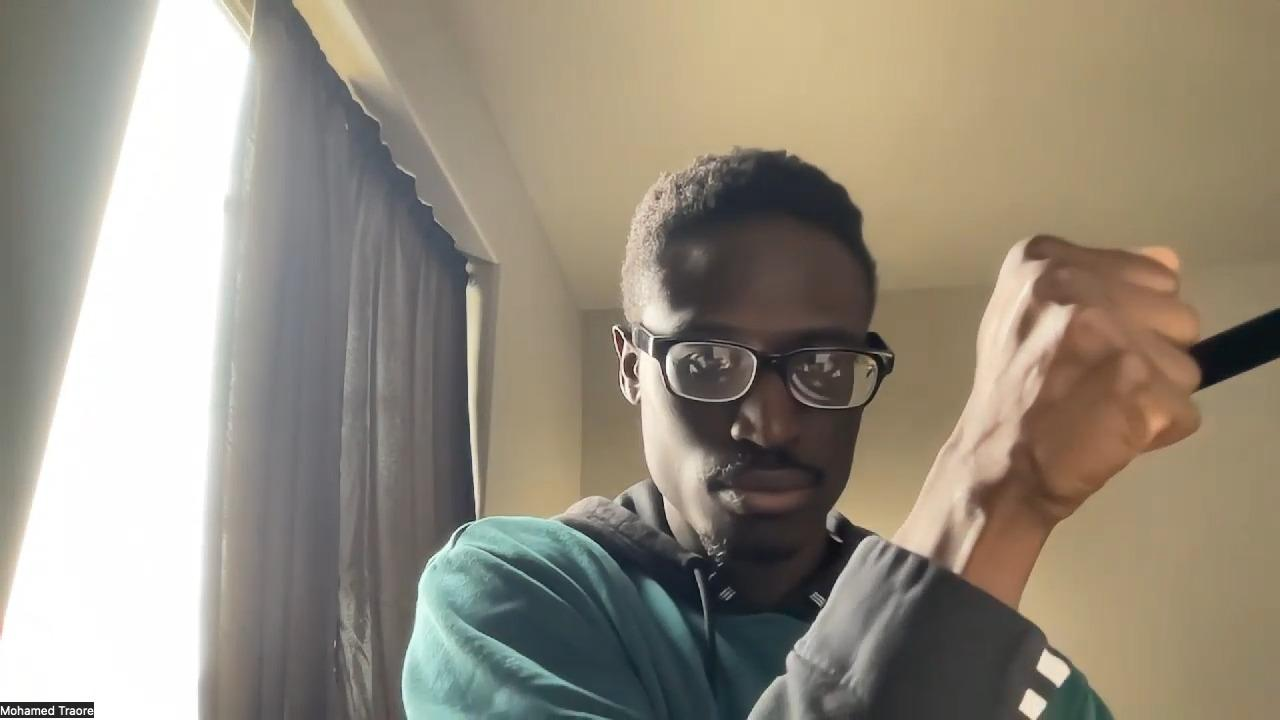Rock: (975, 230, 1203, 513)
